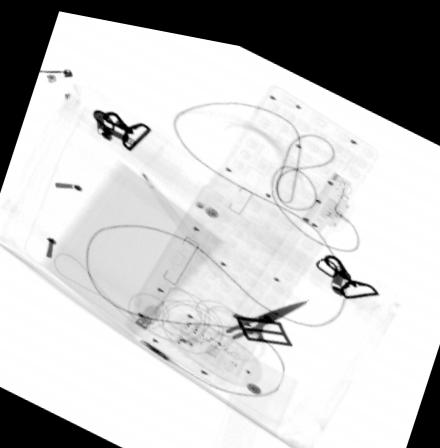Scissors: (191, 289, 307, 353)
